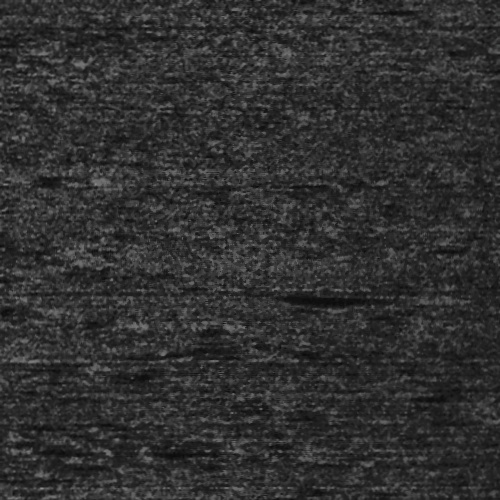object: (387, 291, 470, 302), (0, 45, 59, 52)
shadow: (299, 291, 428, 302), (0, 45, 22, 52)
